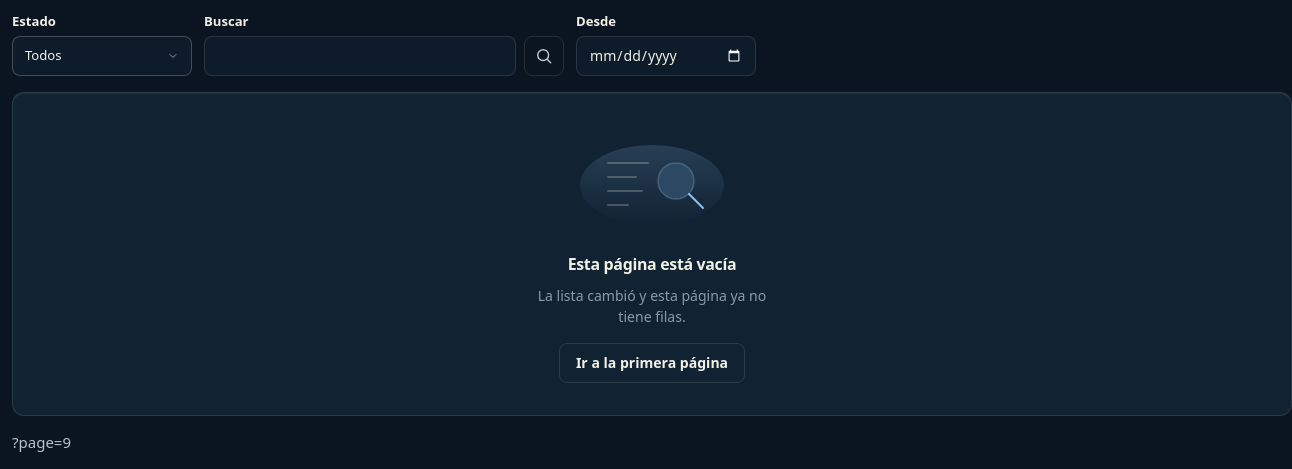
Test case: ListView › offers the first page when the page asked for is beyond the list
Expected: the text "Esta página está vacía" is shown, [568,253,736,277]
Click the button "Ir a la primera página": (652,363) [559,343,745,383]
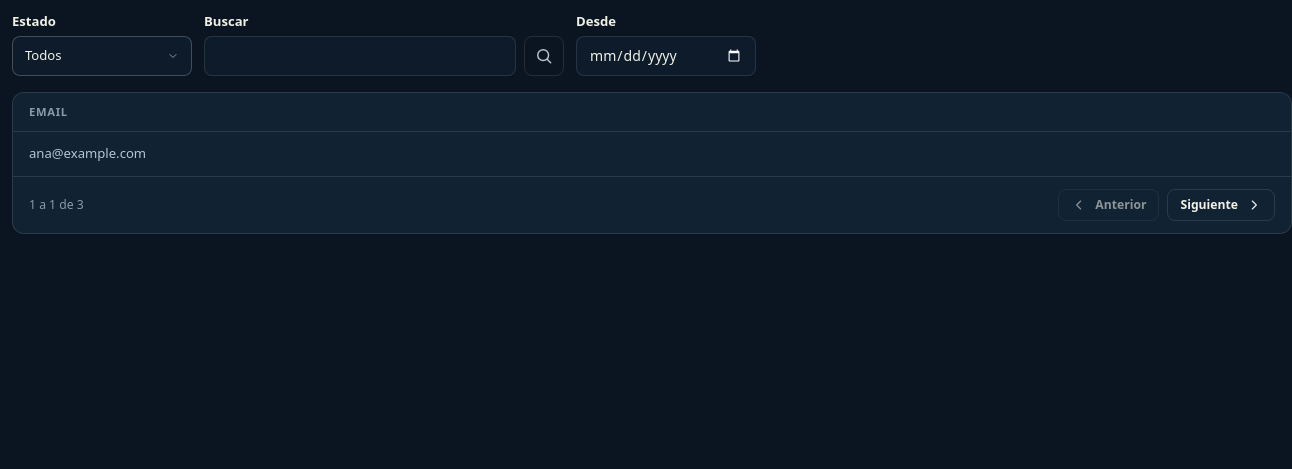
Expected: the cell "ana@example.com" is shown, [13,132,1291,176]
